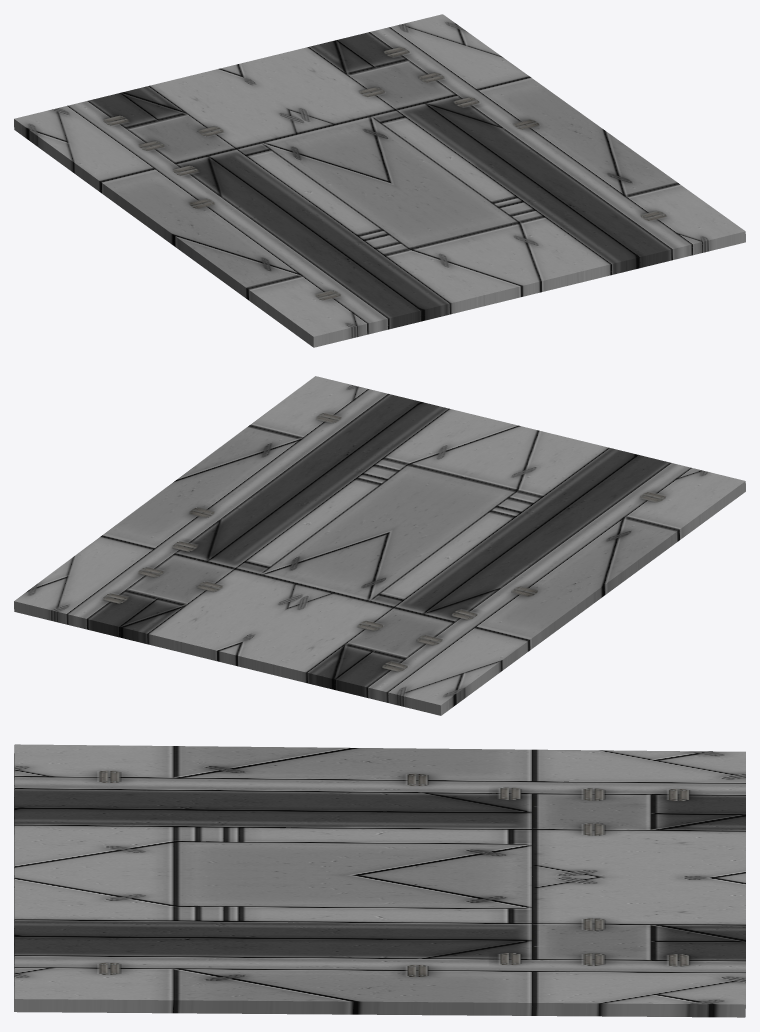
The model's file is door.fbx.
3 views of the same model, one above another, from view 1: azimuth 30°, elevation 25°; view 2: azimuth 150°, elevation 25°; view 3: azimuth 270°, elevation 25° (orthographic). The views are drawn at different scales.
Visible parts, largest first — view 1: door; view 2: door; view 3: door.
Part boxes in pixels (x1,y1,x2,y2): door: (14,14,745,347); door: (14,376,745,715); door: (14,744,745,1017).
Size of the model in its own units: 21.25 by 0.7183 by 25.81.
Materials: 1 (1 with a texture image).
